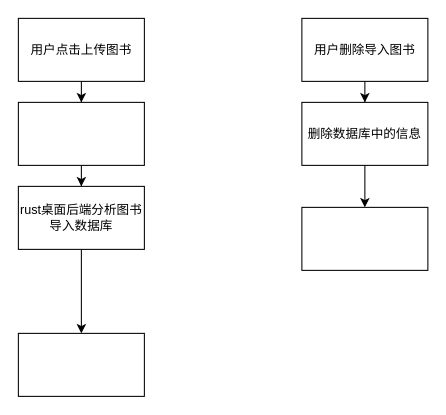
This 446x415 diagram has some shape labels left out. Each missing label, with the centre of its shape:
"删除本地目录图书" goes at pixel 364 238.
"获取被导入图书地址,将文件复制到用户自定义的地址" goes at pixel 80 133.
